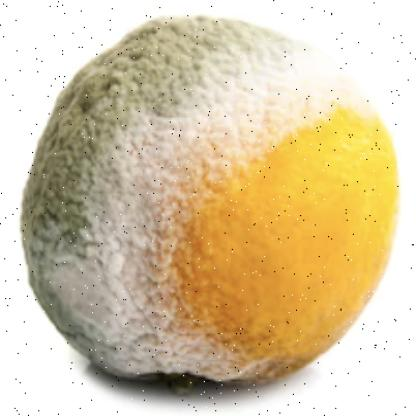rotten: (20, 19, 401, 391)
